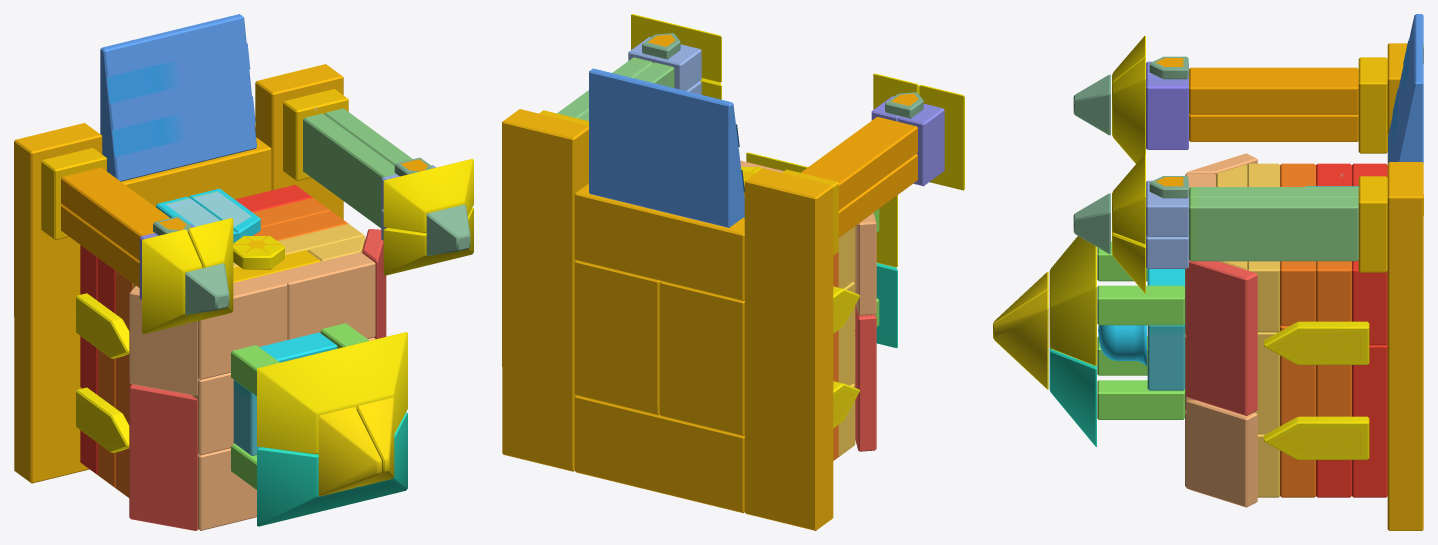
The model's file is Level_163.fbx.
The picture shows the model from 3 angles, left to right: view 1: azimuth 30°, elevation 25°; view 2: azimuth 150°, elevation 25°; view 3: azimuth 270°, elevation 25°; orthographic projection.
Visible parts, largest first — view 1: Cube_L4 3, Cube_L4 4, Cube_L2 11.002, Cube_L3 10, Cube_L3 3, Cube_L2 12.002, Cube_L3 8, Cube_L1 10.003, Cube_L1 16.003, Cube_L4 2, Cube_L4, Cube_L3 9 (+38 smaller); view 2: Cube_L4 4, Cube_L4, Cube_L4 3, Cube_L4 1, Cube_L4 2, Cube_L5 10, Cube_L5 18, Cube_L1 16.003, Cube_L3 10, Cube_L1 2.004, Cube_L1 9.003, Cube_L1 15.003 (+16 smaller); view 3: Cube_L4, Cube_L1 3.004, Cube_L3 1, Cube_L1 16.003, Cube_L3, Cube_L2 11.002, Cube_L1 15.003, Cube_L5 7, Cube_L5, Cube_L5 1, Cube_L4 3, Cube_L2 2.002 (+39 smaller).
Part boxes in pixels (x1,y1,x2,y2): Cube_L4 3: [100, 14, 256, 181]; Cube_L4 4: [14, 123, 102, 483]; Cube_L2 11.002: [257, 332, 407, 454]; Cube_L3 10: [129, 384, 197, 530]; Cube_L3 3: [274, 252, 375, 339]; Cube_L2 12.002: [257, 412, 407, 526]; Cube_L3 8: [198, 273, 287, 379]; Cube_L1 10.003: [303, 113, 395, 228]; Cube_L1 16.003: [61, 167, 170, 260]; Cube_L4 2: [121, 137, 271, 206]; Cube_L4: [255, 64, 343, 219]; Cube_L3 9: [129, 286, 197, 395]; Cube_L4 4: [744, 168, 833, 530]; Cube_L4: [502, 109, 588, 471]; Cube_L4 3: [589, 68, 744, 227]; Cube_L4 1: [574, 395, 744, 513]; Cube_L4 2: [574, 183, 744, 300]; Cube_L5 10: [574, 260, 660, 415]; Cube_L5 18: [659, 281, 744, 435]; Cube_L1 16.003: [801, 116, 917, 210]; Cube_L3 10: [855, 305, 876, 451]; Cube_L1 2.004: [919, 84, 964, 190]; Cube_L1 9.003: [631, 14, 721, 82]; Cube_L1 15.003: [838, 154, 917, 237]; Cube_L4: [1387, 162, 1423, 530]; Cube_L1 3.004: [1189, 197, 1358, 261]; Cube_L3 1: [1186, 260, 1257, 415]; Cube_L1 16.003: [1189, 67, 1358, 114]; Cube_L3: [1186, 400, 1257, 507]; Cube_L2 11.002: [1049, 236, 1096, 365]; Cube_L1 15.003: [1189, 113, 1358, 141]; Cube_L5 7: [1352, 344, 1387, 497]; Cube_L5: [1264, 321, 1369, 364]; Cube_L5 1: [1264, 416, 1369, 459]; Cube_L4 3: [1388, 14, 1423, 162]; Cube_L2 2.002: [1097, 285, 1184, 325].
Size of the model in its own units: 15.15 by 17.89 by 16.89.
